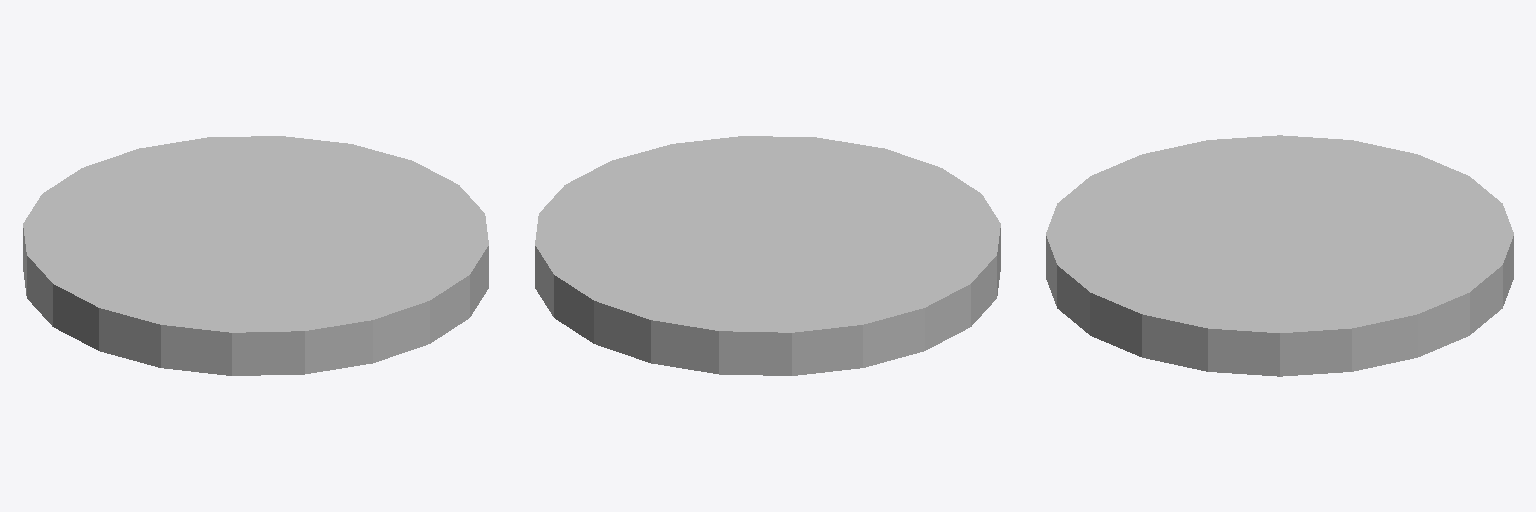
The model's file is PBR - Metallic Roughness.obj.
3 views of the same model, side by side, from view 1: azimuth 30°, elevation 25°; view 2: azimuth 150°, elevation 25°; view 3: azimuth 270°, elevation 25° (orthographic).
Parts seen in each view (by area): view 1: pCylinder1_pCylinder1; view 2: pCylinder1_pCylinder1; view 3: pCylinder1_pCylinder1.
Part boxes in pixels (x1,y1,x2,y2): pCylinder1_pCylinder1: (23, 136, 488, 375); pCylinder1_pCylinder1: (535, 136, 1000, 375); pCylinder1_pCylinder1: (1046, 135, 1513, 376).
Size of the model in its own units: 2 by 0.204 by 2.